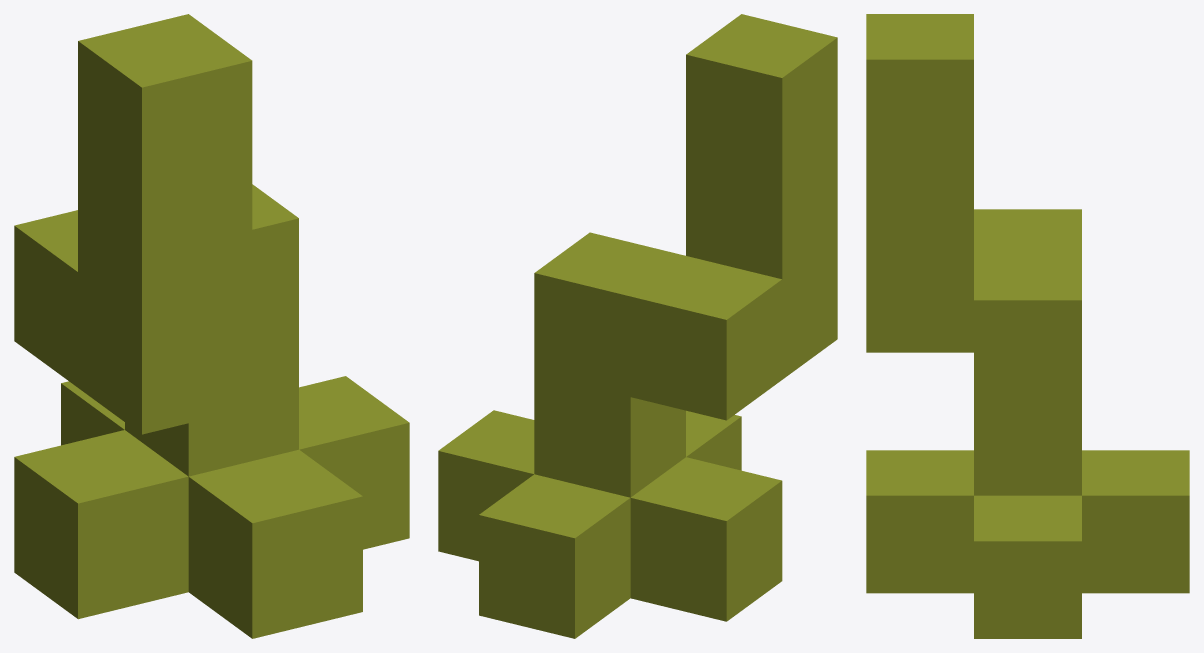
The model's file is Grasstuft.fbx.
3 views of the same model, side by side, from view 1: azimuth 30°, elevation 25°; view 2: azimuth 150°, elevation 25°; view 3: azimuth 270°, elevation 25° (orthographic). The views are drawn at different scales.
Visible parts, largest first — view 1: Grasstuft:model_Grasstuft_obj; view 2: Grasstuft:model_Grasstuft_obj; view 3: Grasstuft:model_Grasstuft_obj.
Boxes of the visible parts, x1,y1,x2,y2 form: Grasstuft:model_Grasstuft_obj: [14, 14, 409, 638]; Grasstuft:model_Grasstuft_obj: [438, 14, 837, 638]; Grasstuft:model_Grasstuft_obj: [866, 14, 1189, 638].
Size of the model in its own units: 3 by 5 by 3.
